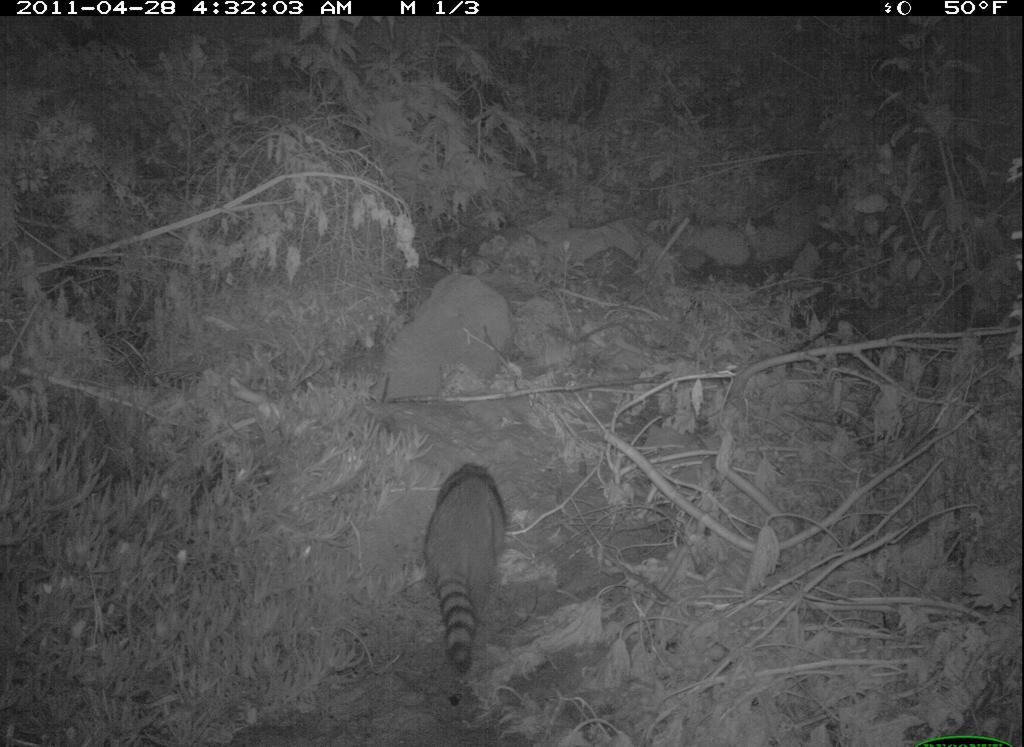raccoon: (413, 456, 519, 683)
